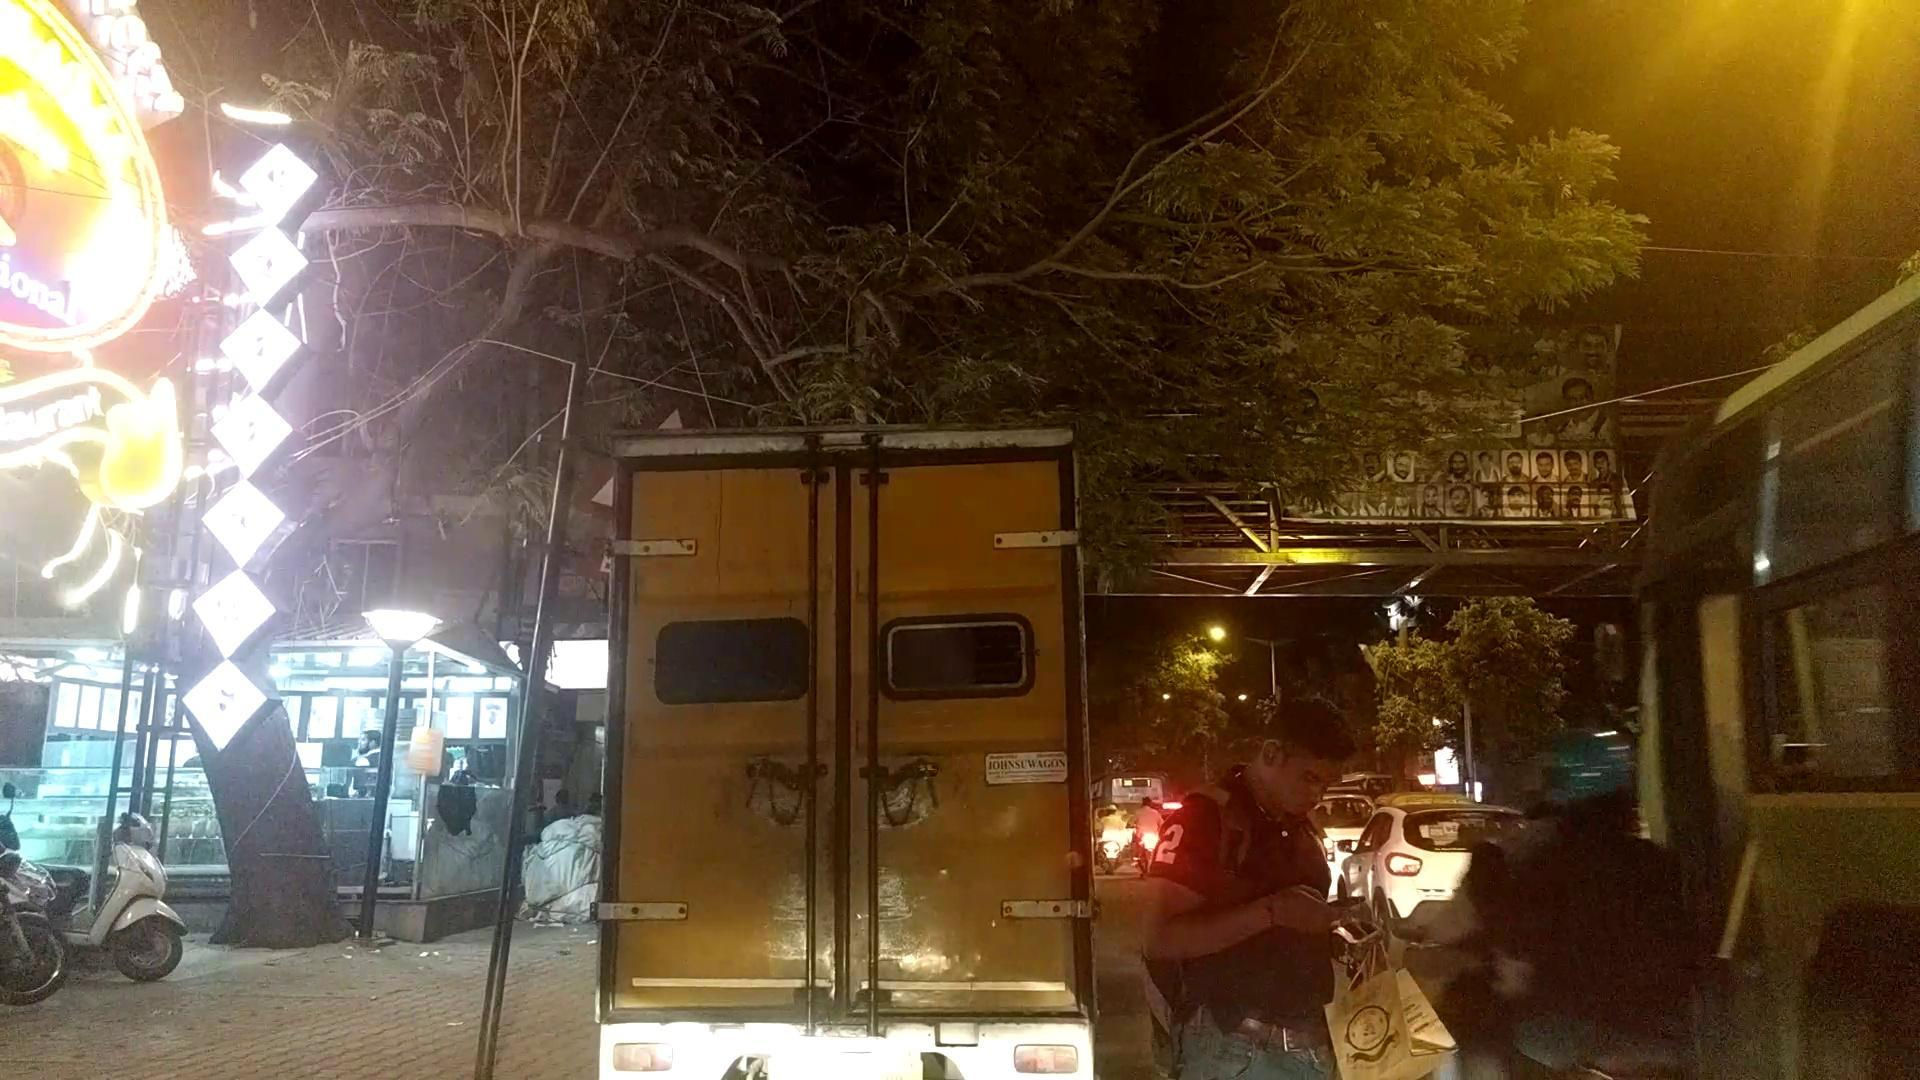on: (20, 42, 1920, 1080)
